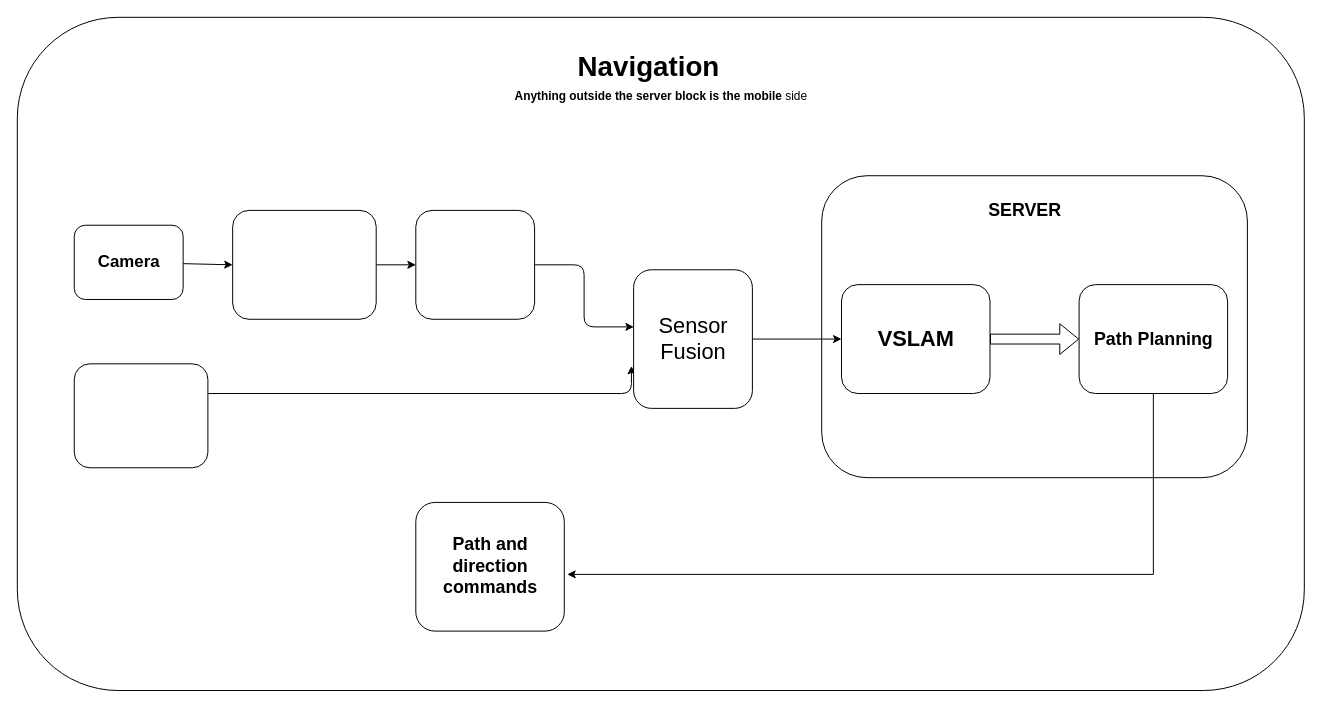
Some shapes in this 1322 by 708 pixel diagram are drawn without their labels. Here are the shapes that lost their labels. From the top down, the centre of each, then its label:
At pixel 304 264: "Preprocessing".
At pixel 475 264: "Visual Features Extraction (ORB, SIFT, or SURF)".
At pixel 140 415: "SENSORS LiDAR Gyroscope Accelerometer".
